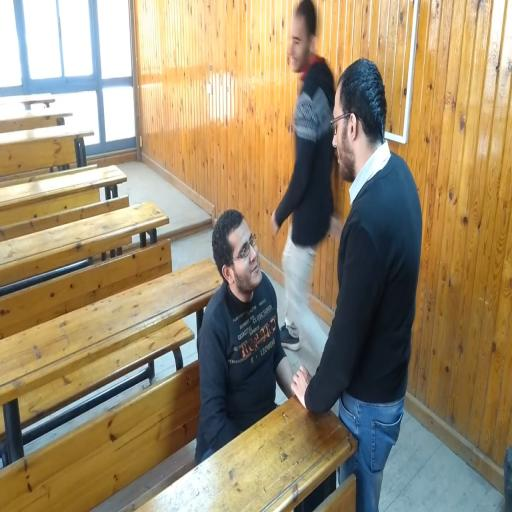nao-violencia: (193, 50, 428, 512)
